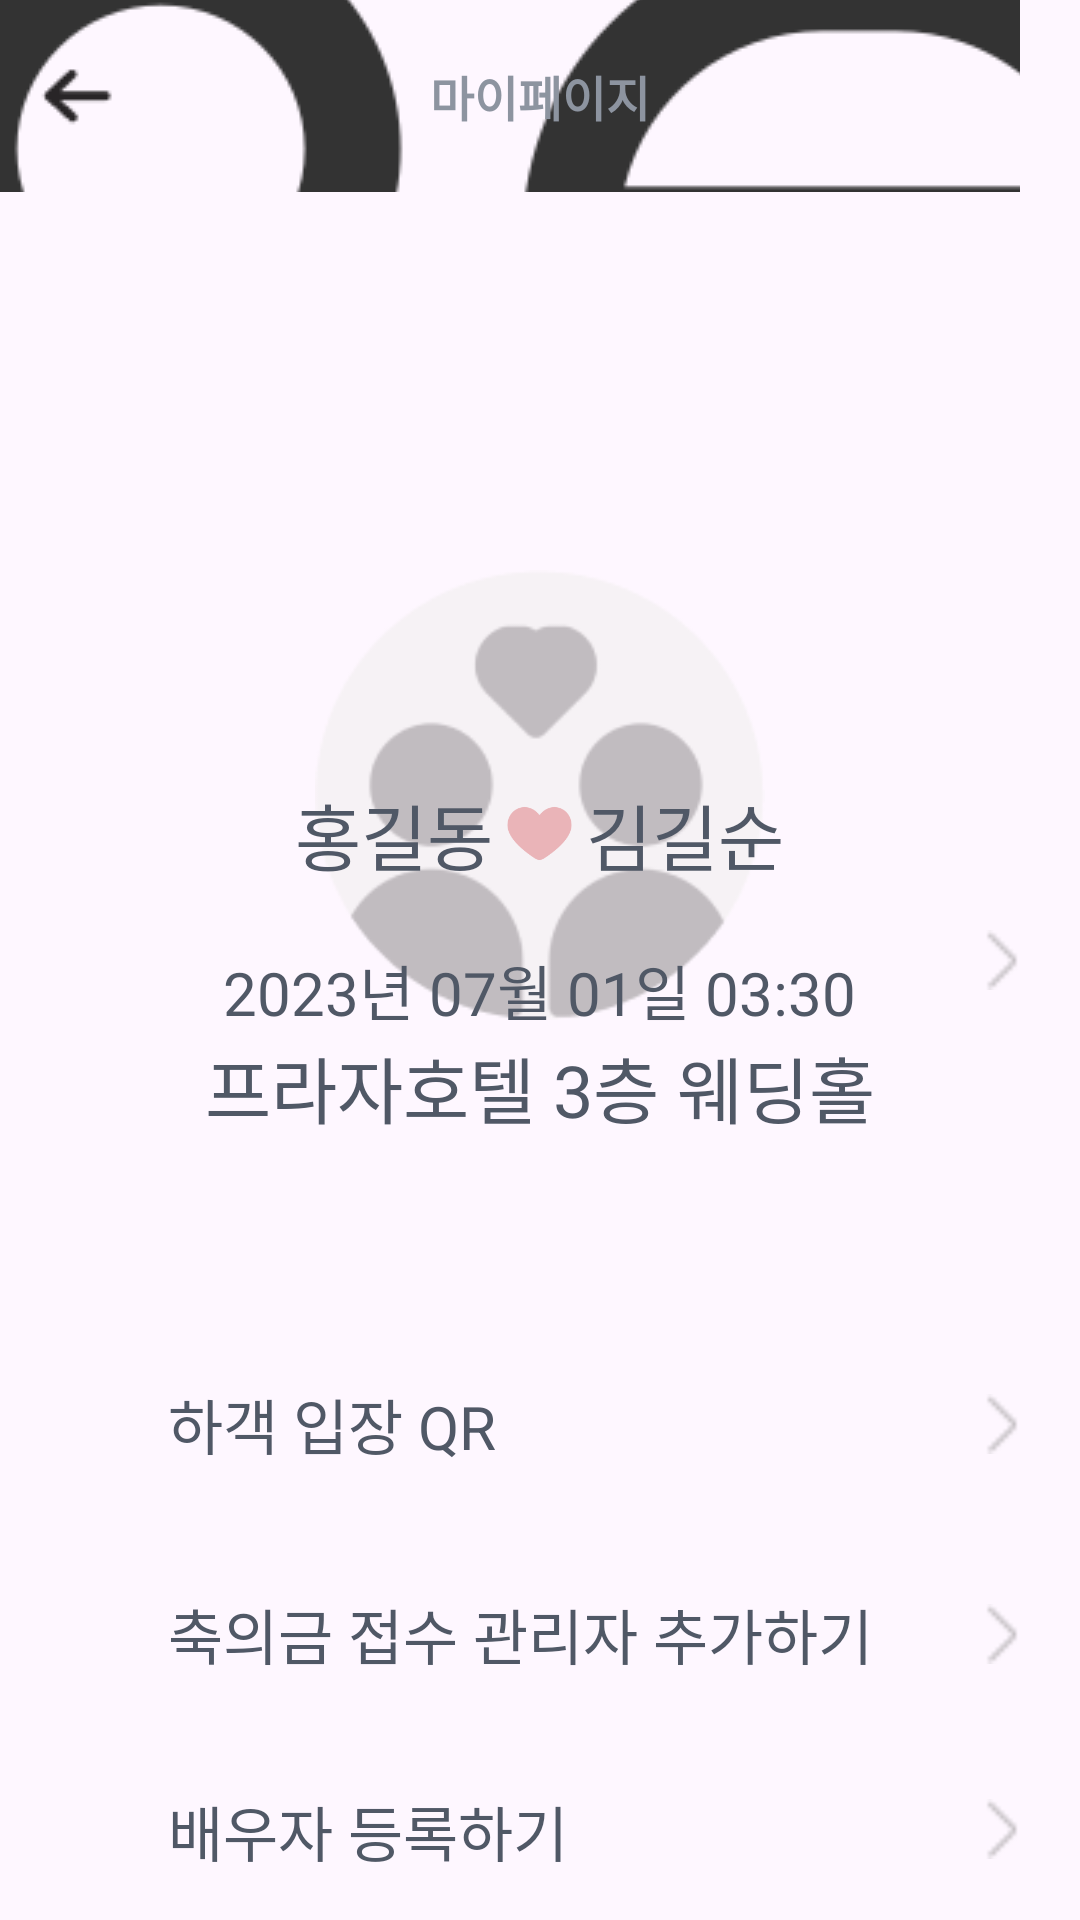

Screen size 1080×1920. Icon name, then its center in pixels as (x=x, y=y):
right bracket arrow: (x=1002, y=960), (x=1002, y=1424), (x=1002, y=1634), (x=1002, y=1829)
